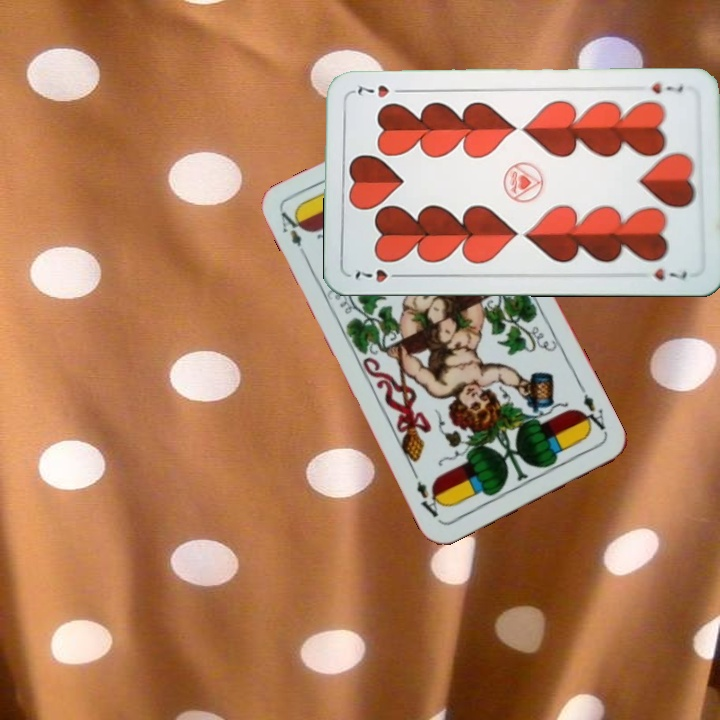EA: (276, 207, 311, 263), (575, 390, 610, 438)
H7: (351, 263, 407, 285), (648, 79, 686, 97)
